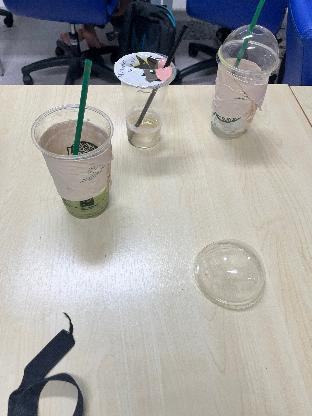Plastic Cup: (28, 106, 114, 226), (196, 36, 284, 140), (190, 235, 270, 312), (120, 52, 178, 154), (216, 24, 286, 72)
